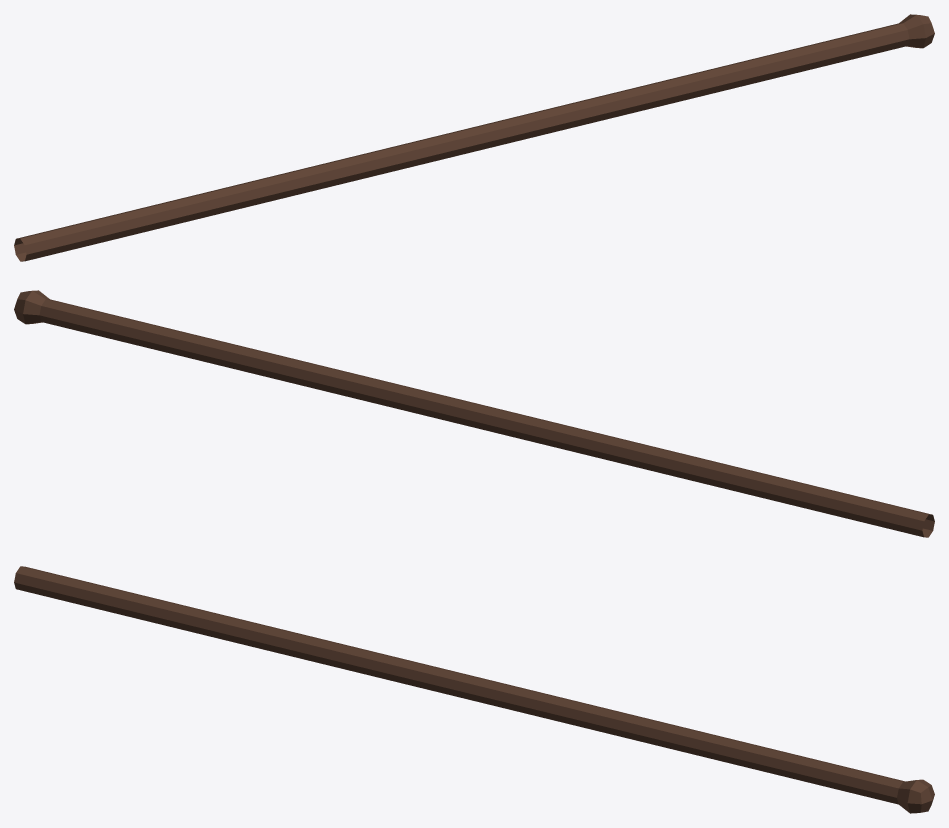
Rendered from curtainbar.fbx.
3 views of the same model, one above another, from view 1: azimuth 30°, elevation 25°; view 2: azimuth 150°, elevation 25°; view 3: azimuth 330°, elevation 25° (orthographic).
Visible parts, largest first — view 1: curtain bar; view 2: curtain bar; view 3: curtain bar.
Boxes of the visible parts, x1=… form: curtain bar: x1=14, y1=14, x2=934, y2=261; curtain bar: x1=14, y1=290, x2=934, y2=537; curtain bar: x1=14, y1=566, x2=934, y2=813.
Size of the model in its own units: 354 by 12.33 by 12.33.
